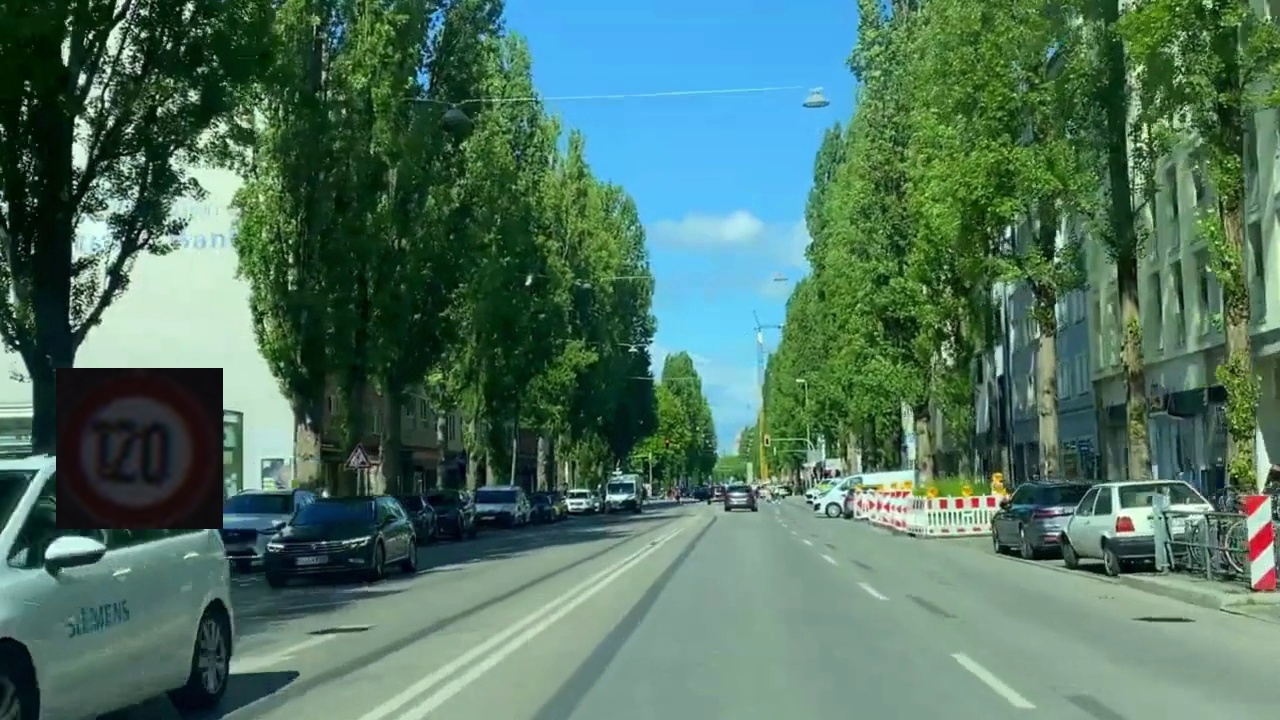Speed 120: (56, 368, 223, 529)
